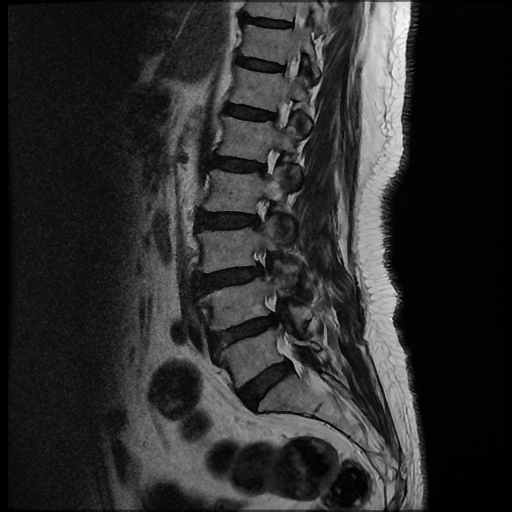RFS0: (240, 189, 286, 236), (249, 140, 291, 184)
